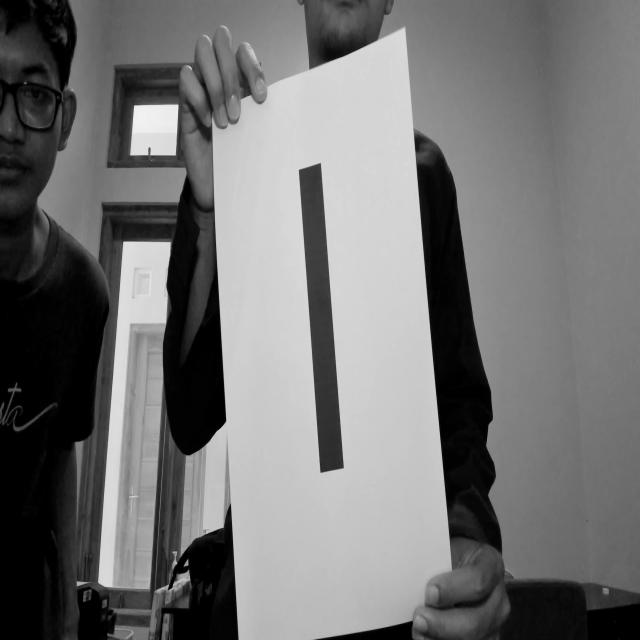i: (267, 119, 364, 495)
